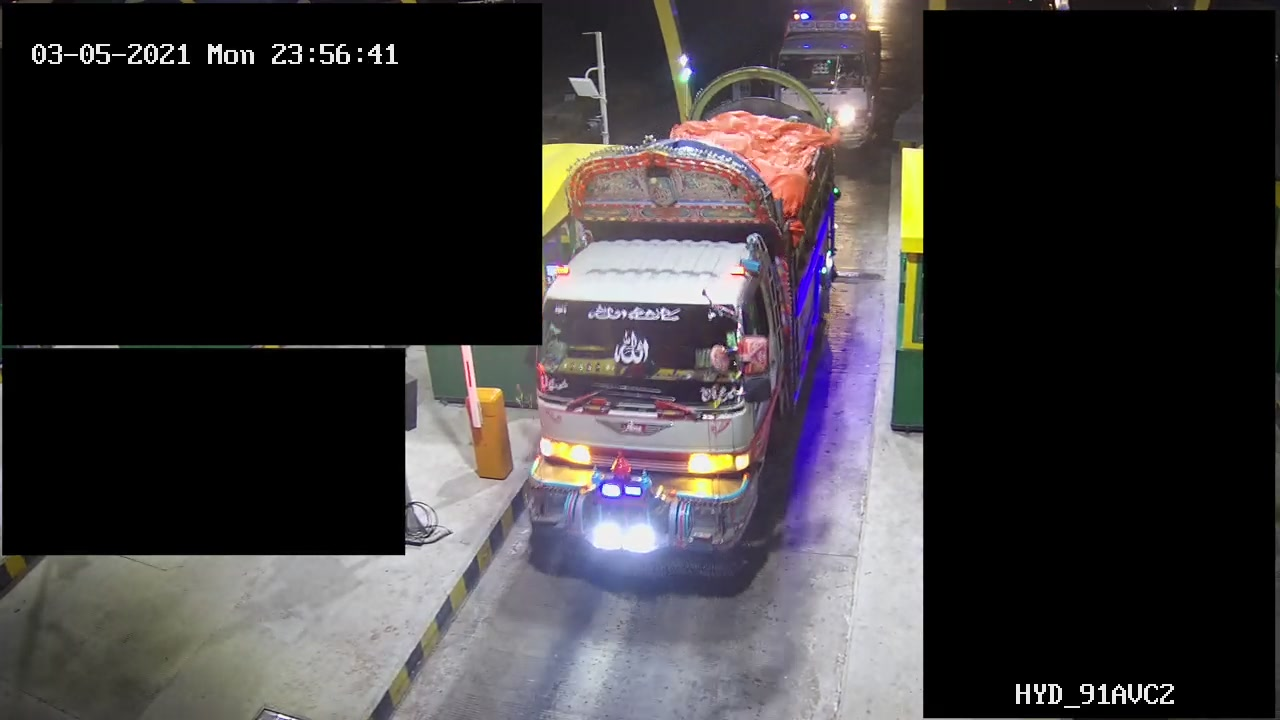F5: (517, 61, 834, 557)
